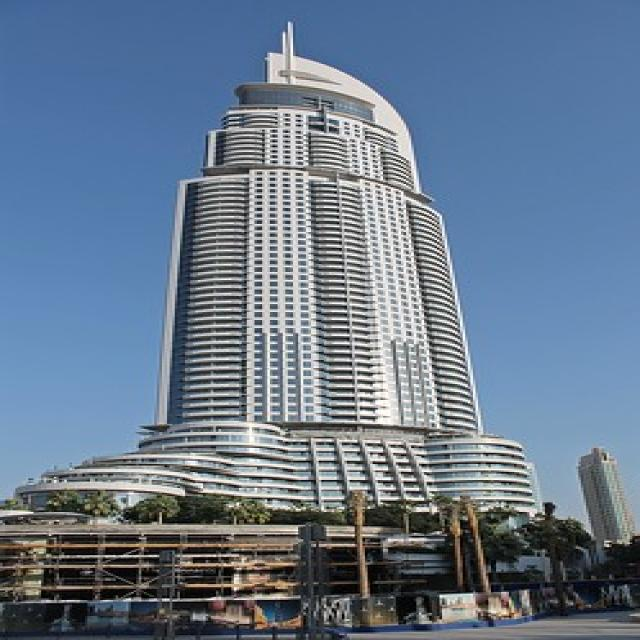building: (152, 48, 496, 542)
